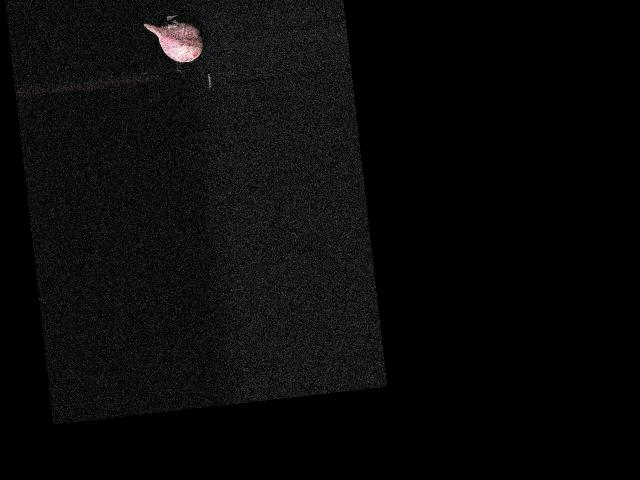beet: (144, 18, 204, 67)
